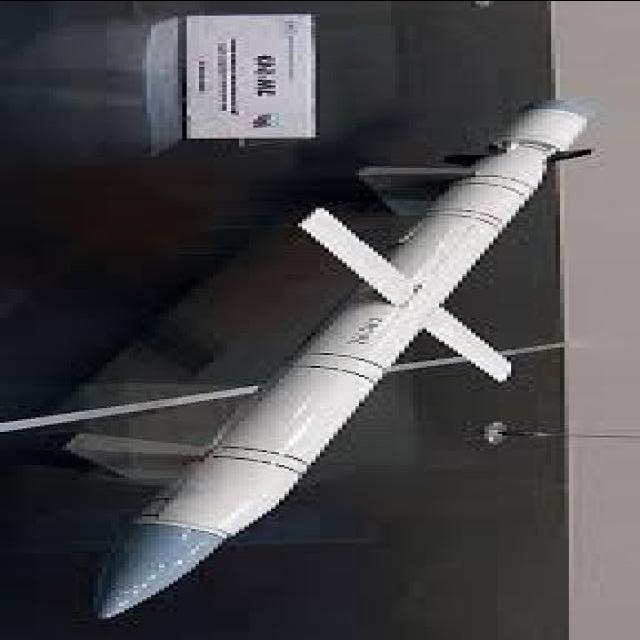missile: (82, 99, 588, 628)
